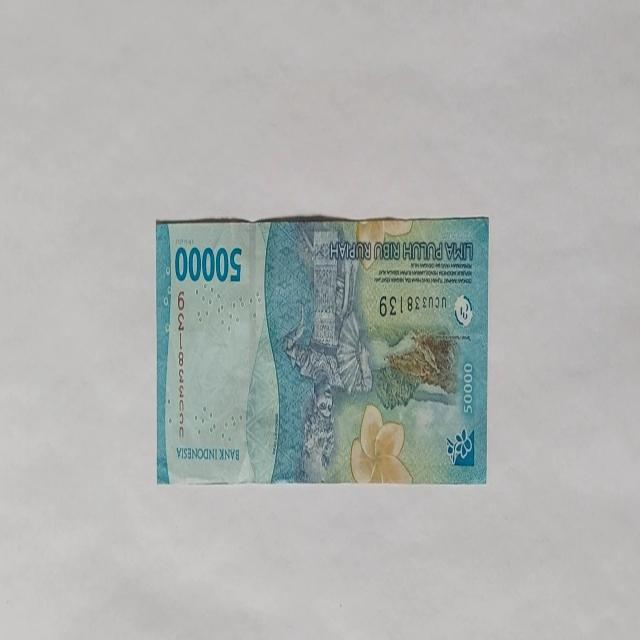lima puluh ribu rupiah: (155, 214, 490, 486), (173, 242, 243, 284)
